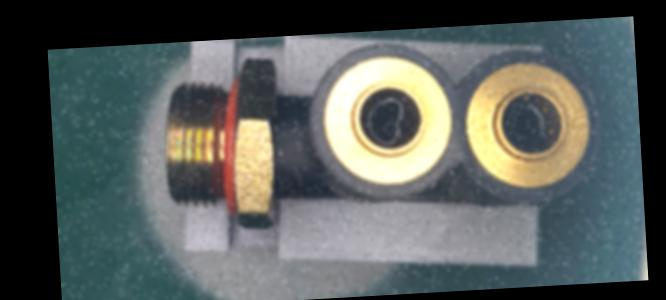off-centered: (357, 93, 414, 150), (504, 95, 556, 149)
